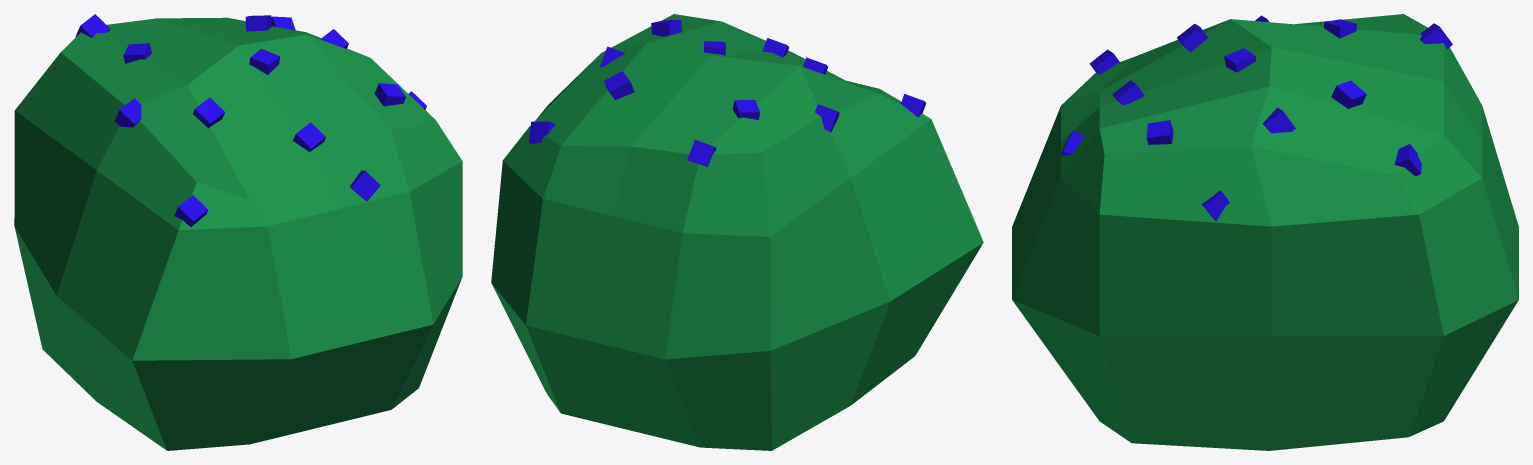
File: BerryBush1.fbx
3 views of the same model, side by side, from view 1: azimuth 30°, elevation 25°; view 2: azimuth 150°, elevation 25°; view 3: azimuth 270°, elevation 25° (orthographic). The views are drawn at different scales.
Parts seen in each view (by area): view 1: Leaves, Berry; view 2: Leaves, Berry; view 3: Leaves, Berry.
Boxes of the visible parts, left/top/right/bottom form: Leaves: left=14, top=17, right=462, bottom=450; Berry: left=75, top=14, right=426, bottom=226; Leaves: left=491, top=14, right=983, bottom=450; Berry: left=528, top=20, right=926, bottom=167; Leaves: left=1012, top=14, right=1518, bottom=450; Berry: left=1061, top=15, right=1452, bottom=221.
Size of the model in its own units: 252 by 216 by 294.
